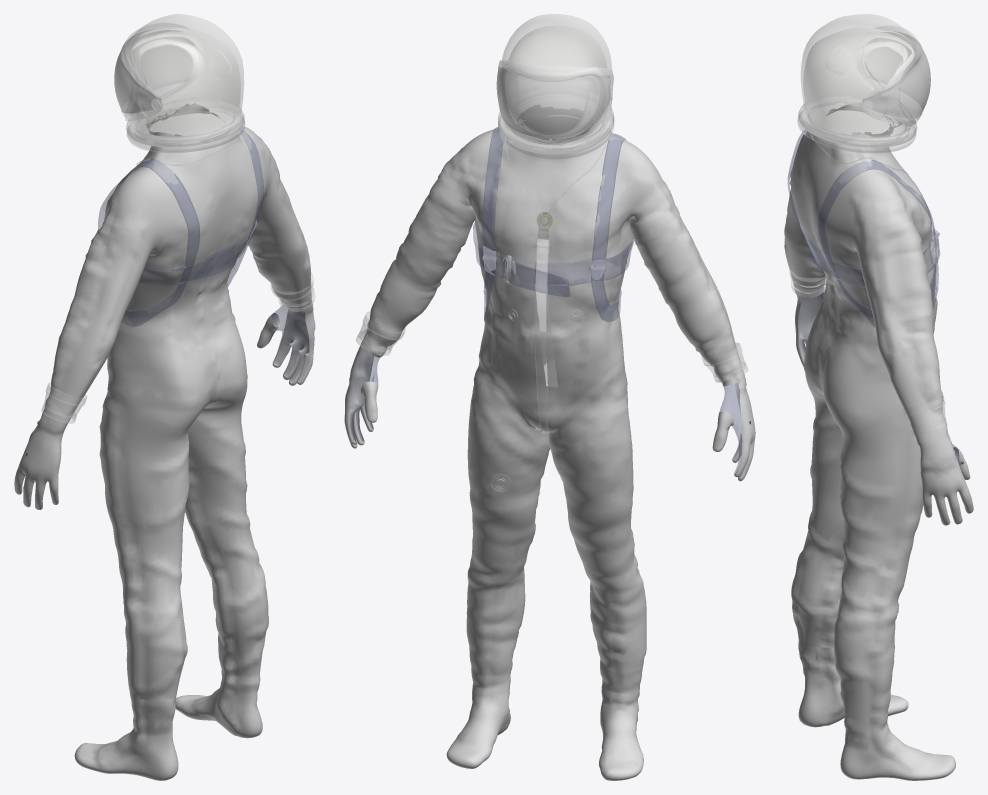
File: astronaut_decompressed.glb
The picture shows the model from 3 angles, left to right: view 1: azimuth 30°, elevation 25°; view 2: azimuth 150°, elevation 25°; view 3: azimuth 270°, elevation 25°; orthographic projection.
Visible parts, largest first — view 1: Mercury Spacesuit; view 2: Mercury Spacesuit; view 3: Mercury Spacesuit.
Boxes of the visible parts, x1,y1,x2,y2 form: Mercury Spacesuit: [14, 14, 315, 780]; Mercury Spacesuit: [344, 14, 755, 780]; Mercury Spacesuit: [784, 14, 973, 780].
Bounding box in the file's own units: 0.9948 × 2 × 0.4719.
